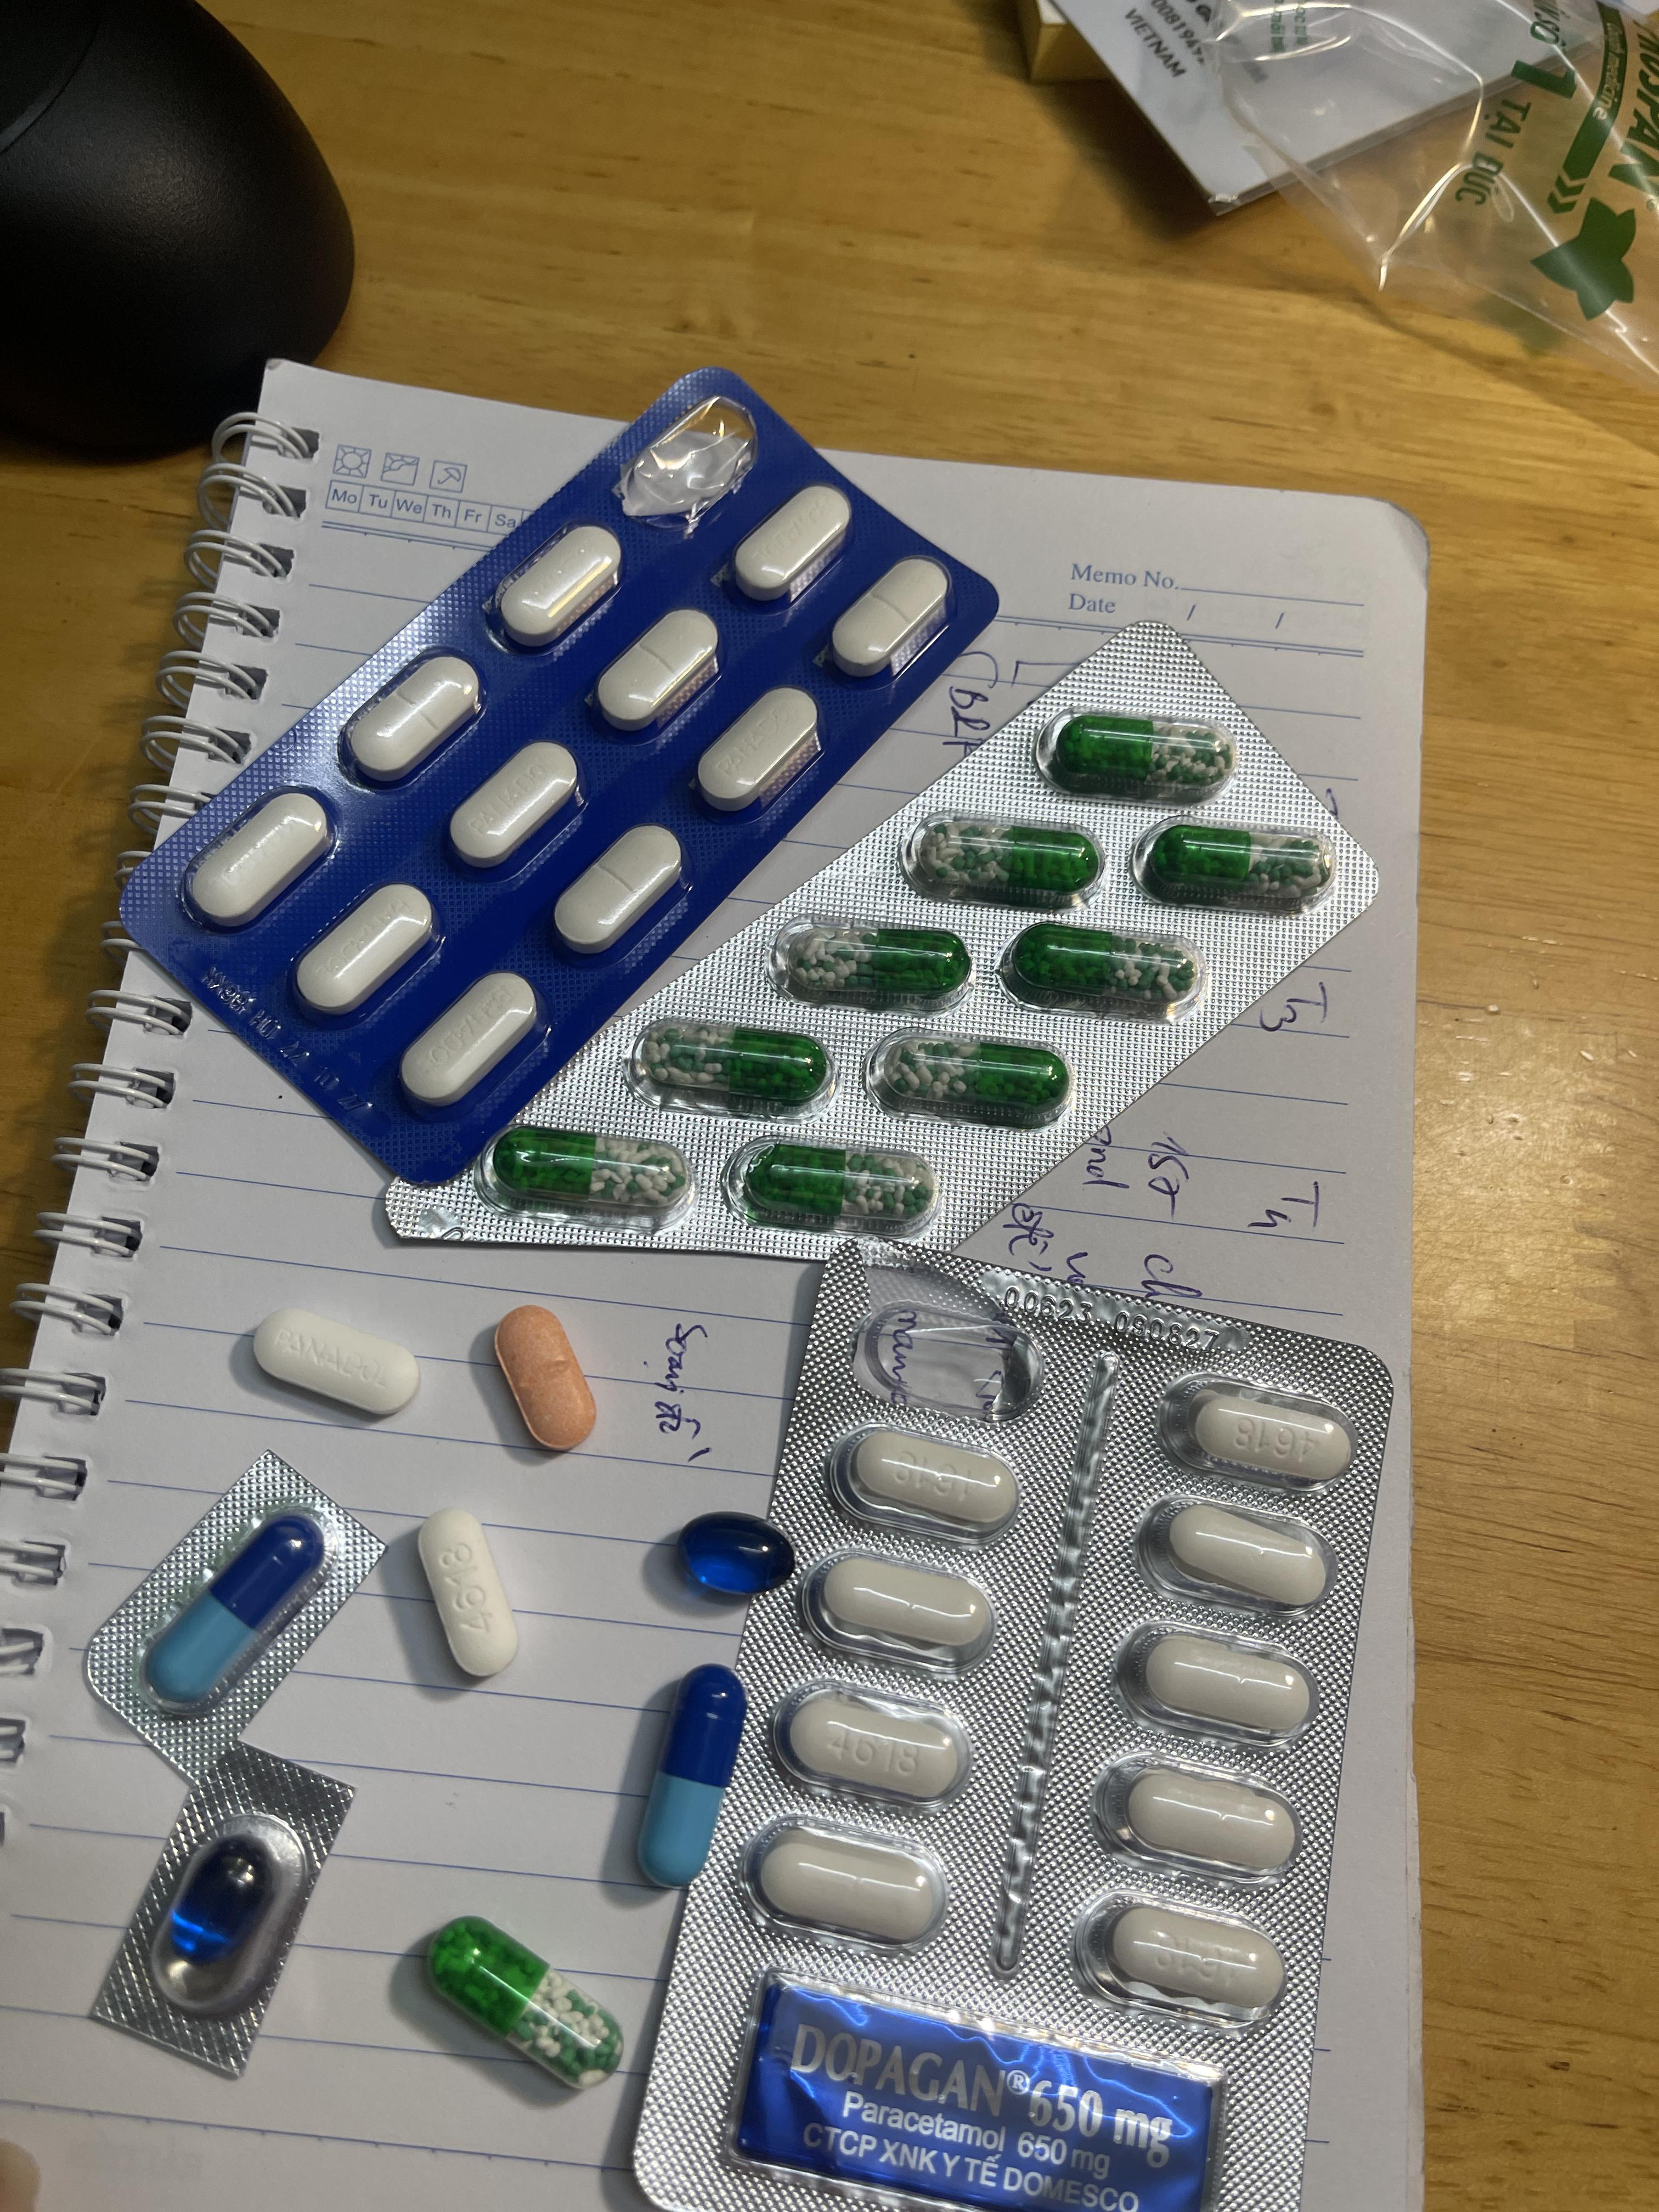Lincomyxin_500mg: (164, 1841, 272, 1961), (674, 1512, 791, 1599)
Loratadine_10mg: (491, 1306, 594, 1451)
Paracetamol_350mg: (186, 791, 331, 927), (291, 881, 436, 1015), (401, 974, 540, 1109), (343, 651, 483, 787), (251, 1312, 422, 1418), (448, 740, 586, 869), (554, 827, 688, 956), (694, 688, 821, 817), (592, 613, 723, 738), (495, 524, 624, 650), (826, 556, 948, 681), (730, 482, 849, 604)
Paracetamol_500mg: (742, 1820, 948, 1947), (1084, 1895, 1291, 2019), (1098, 1754, 1304, 1878), (1117, 1623, 1321, 1742), (777, 1683, 971, 1804), (1143, 1494, 1338, 1613), (809, 1548, 995, 1662), (1162, 1379, 1356, 1484), (838, 1423, 1021, 1533), (416, 1510, 521, 1679)
Paracetamol_650mg: (430, 1921, 622, 2085), (741, 1143, 931, 1228), (884, 1036, 1065, 1120), (640, 1026, 826, 1106), (491, 1127, 681, 1205), (789, 927, 964, 1001), (917, 824, 1094, 897), (1014, 930, 1192, 1003), (1150, 827, 1326, 895), (1058, 716, 1227, 786)
pill: (145, 1515, 324, 1707), (634, 1670, 744, 1885)
